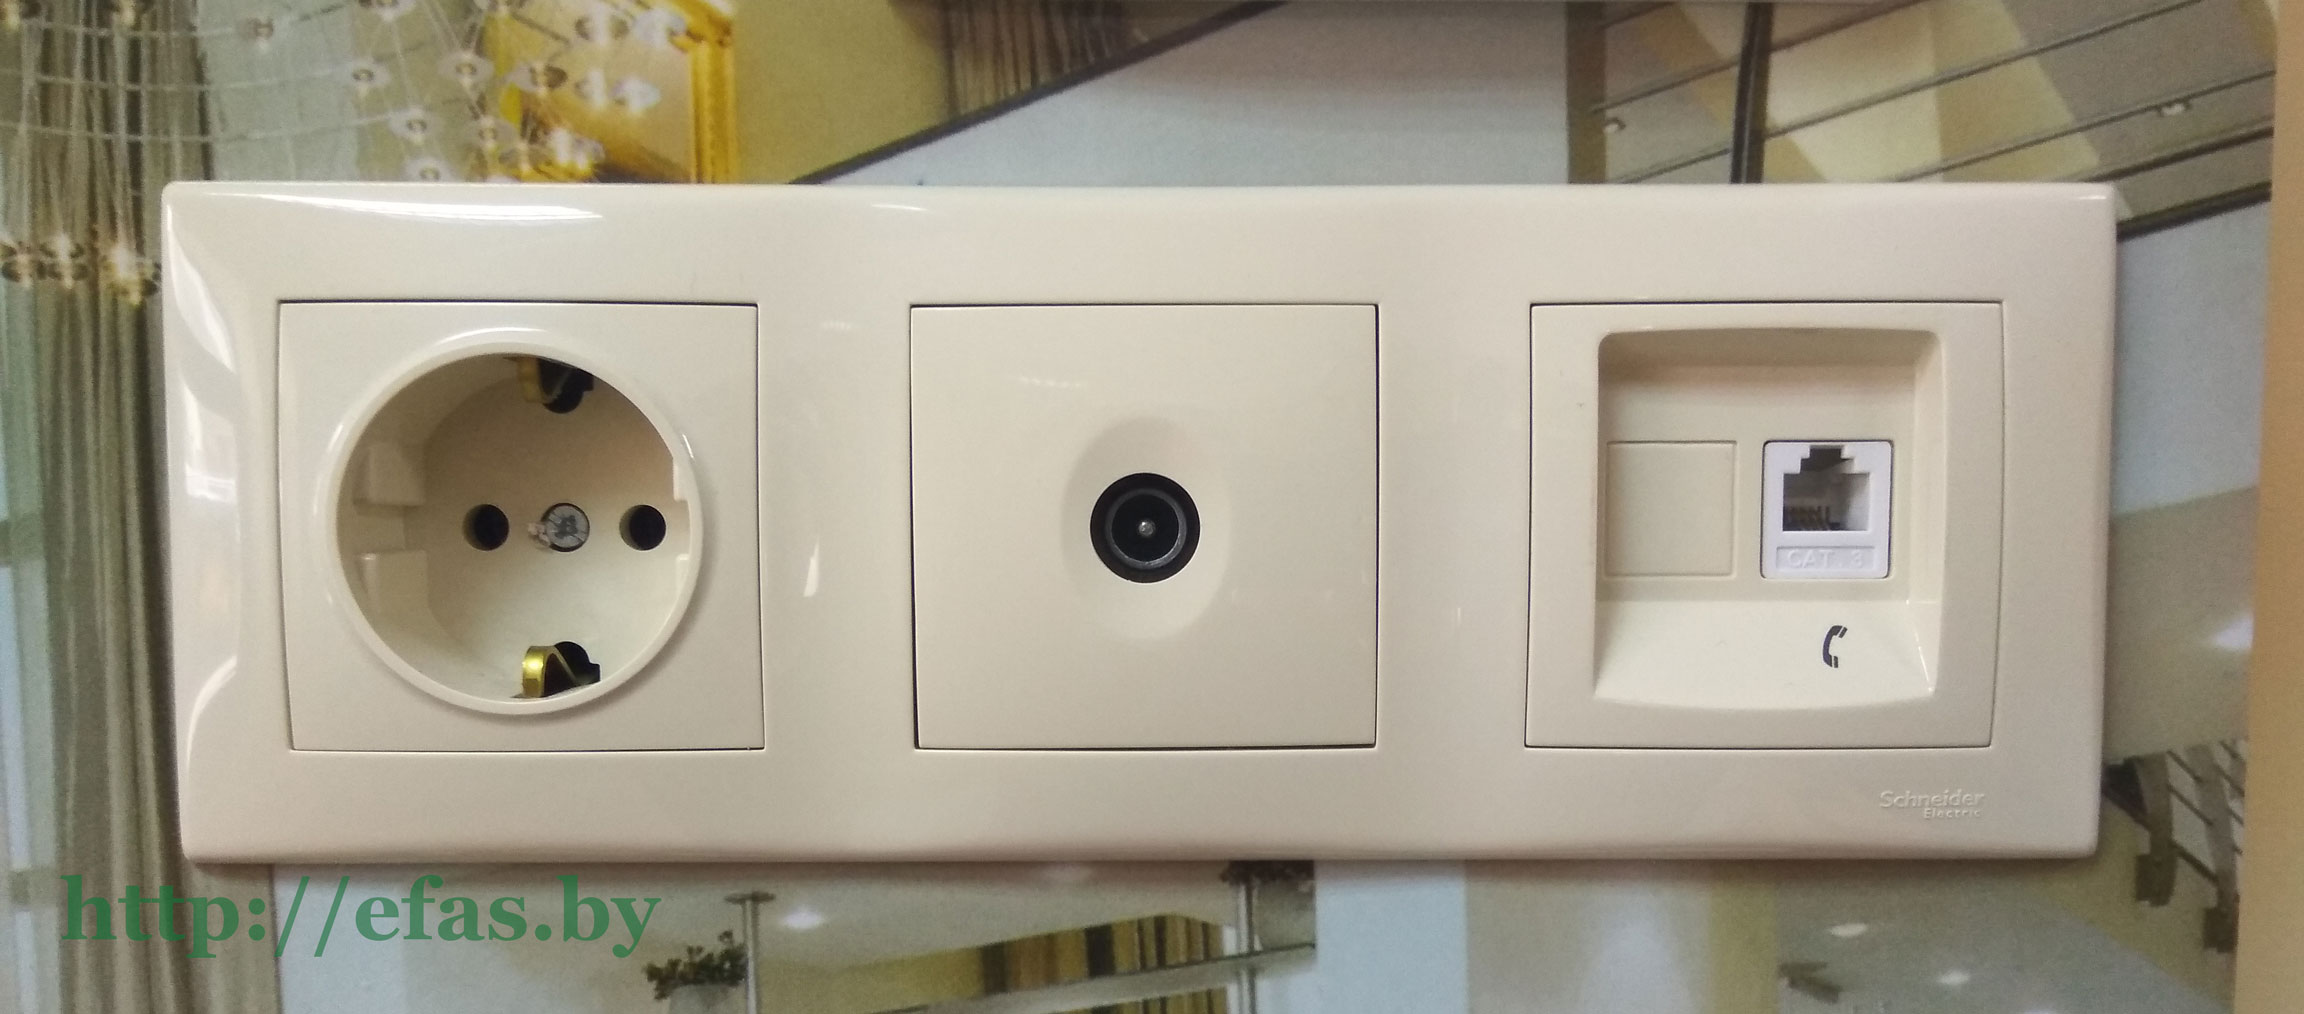raccoon: (314, 348, 707, 722)
